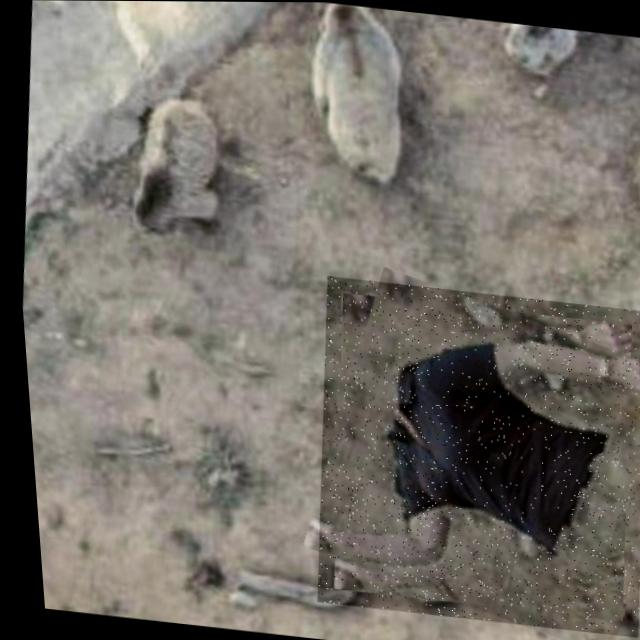Person in Rubble: (288, 274, 640, 636)
